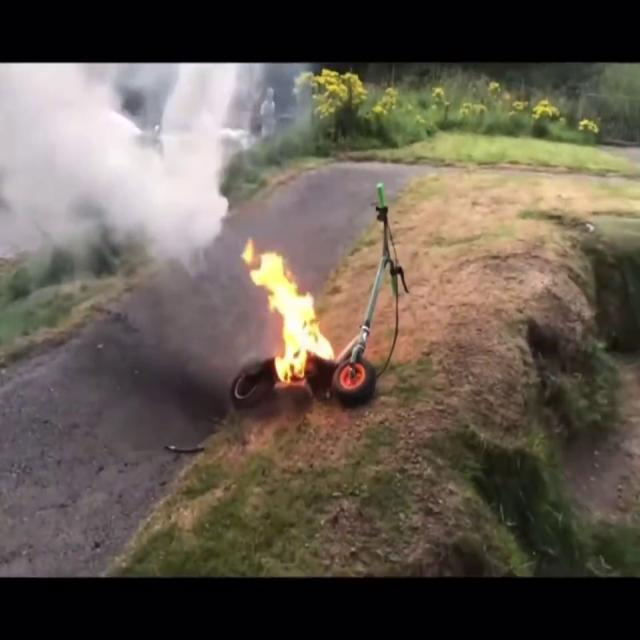Fire: (245, 239, 336, 385)
Smoke: (0, 63, 261, 275)
